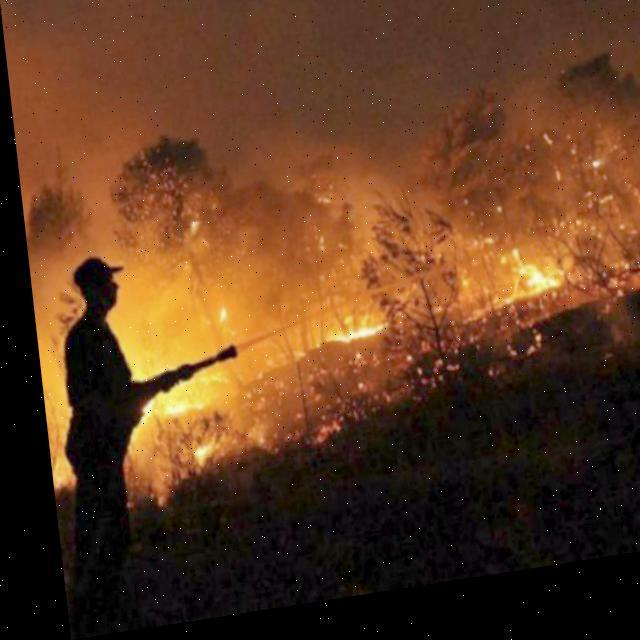Fire: (31, 315, 234, 456), (492, 266, 560, 322), (302, 317, 388, 357), (170, 436, 212, 475)
